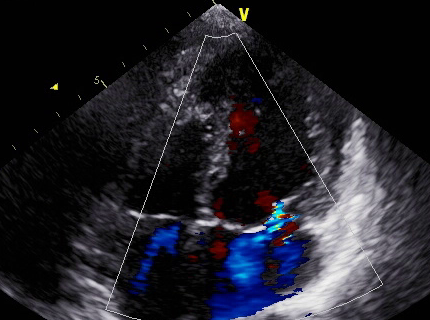MR: (216, 195, 310, 270)
